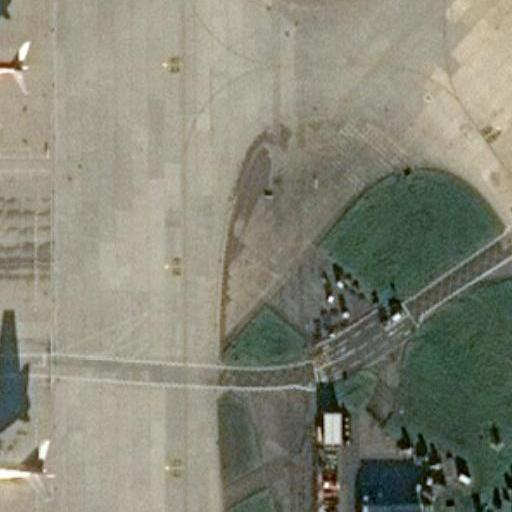Aircraft: (0, 377, 52, 512), (0, 378, 52, 512), (0, 0, 33, 144), (0, 0, 29, 142)
